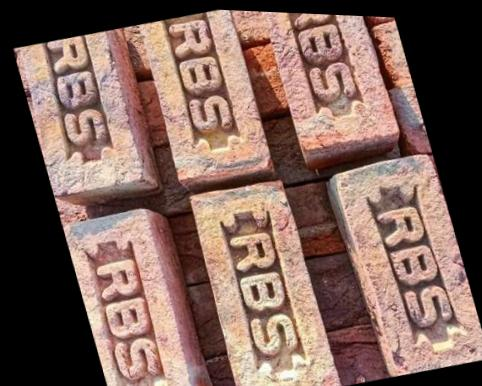brick: (322, 147, 482, 384), (183, 173, 340, 386), (134, 6, 274, 189), (61, 207, 202, 386), (13, 27, 150, 202), (259, 12, 402, 163)
